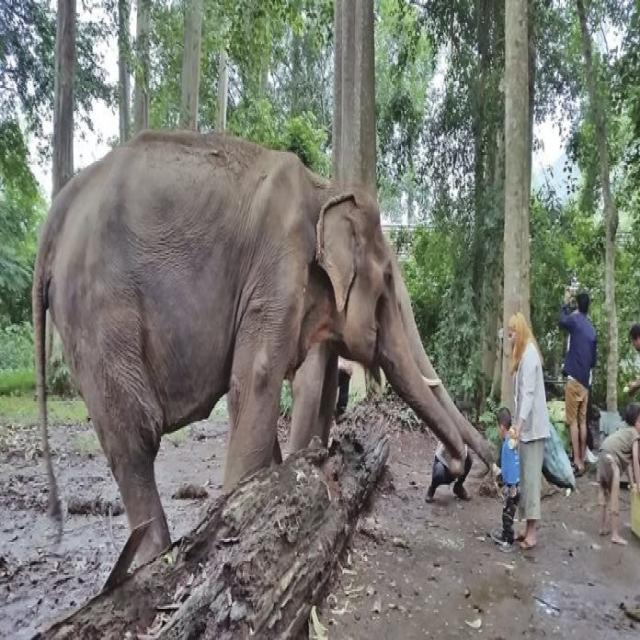Elephant: (19, 111, 502, 616)
